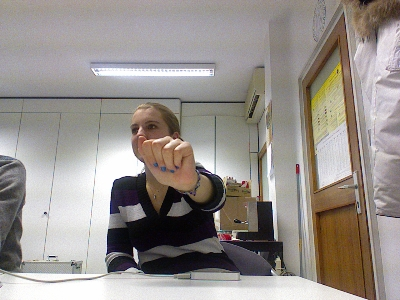石头: (136, 134, 197, 188)
